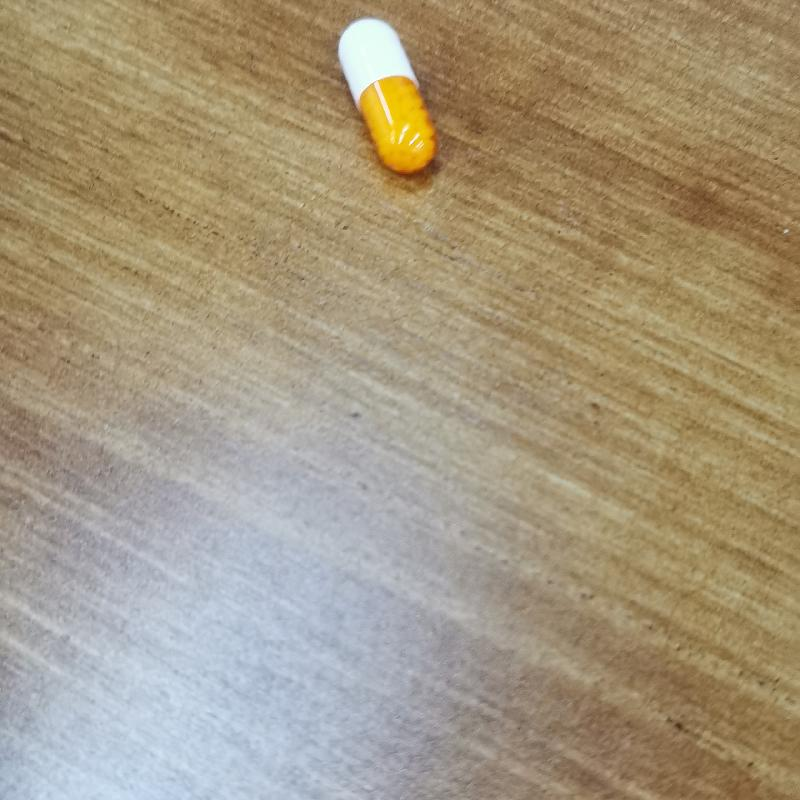pills: (315, 13, 451, 177)
